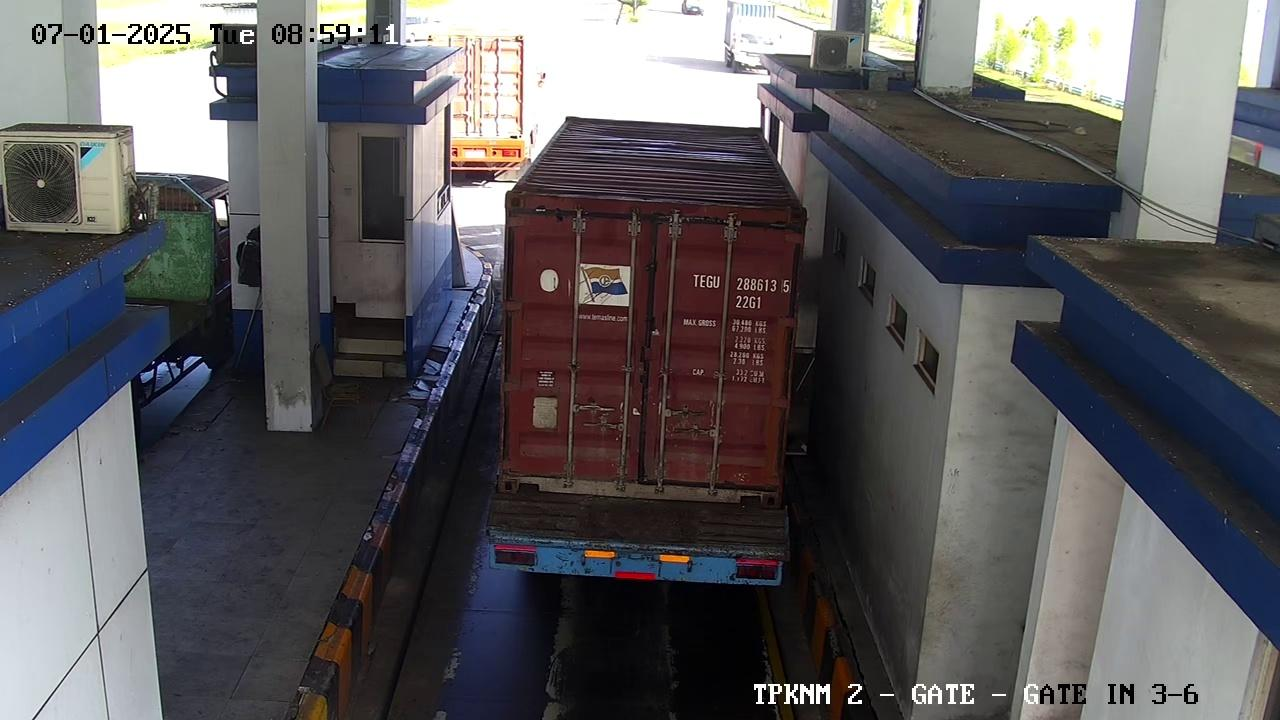Container_ID: (677, 269, 805, 319)
